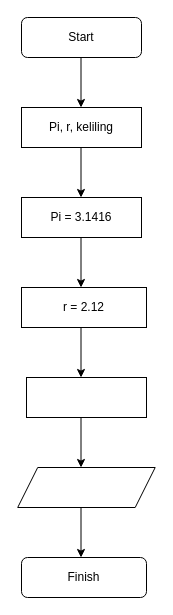
The diagram is 173 pixels wide and 615 high, and some of its shapes have lost their labels. The centre of each missing label's shape, as x and y in pixels:
Keliling = 2 * pi * r: the point at 86,397
Print keliling: the point at 86,487
